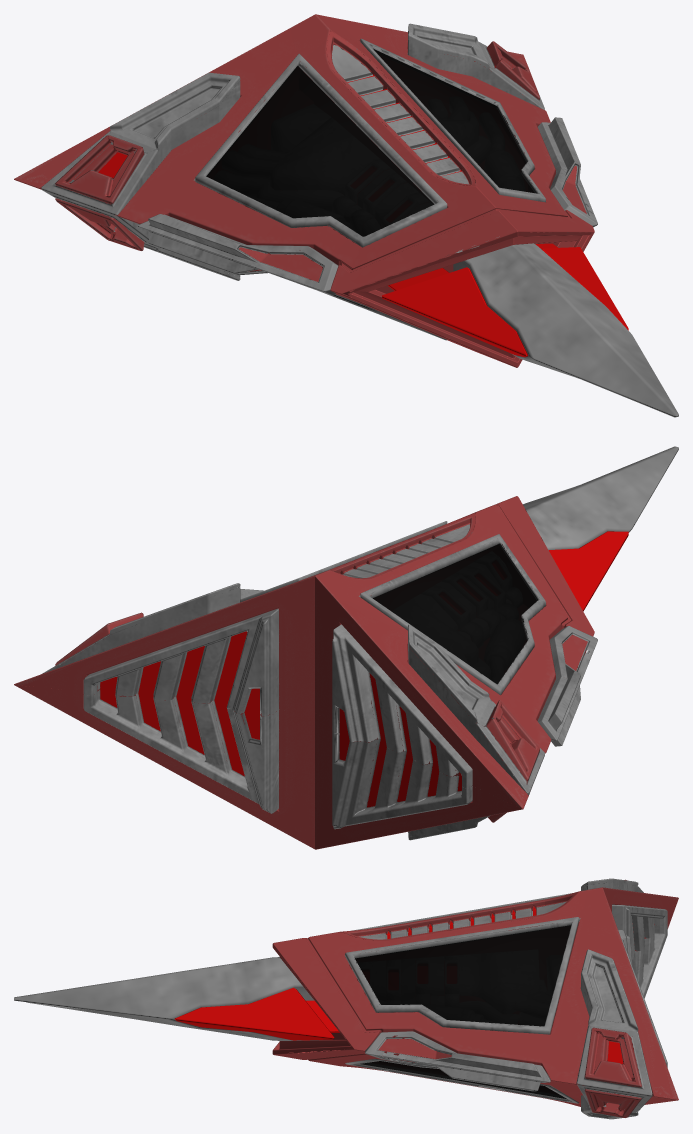
The model's file is Assasin_techno.obj.
3 renders of one model, top to bottom at view 1: azimuth 30°, elevation 25°; view 2: azimuth 150°, elevation 25°; view 3: azimuth 270°, elevation 25°, orthographic. The views are drawn at different scales.
Visible parts, largest first — view 1: Cone.029_Cone.045, Cone.024_Cone.037; view 2: Cone.029_Cone.045, Cone.024_Cone.037; view 3: Cone.029_Cone.045, Cone.024_Cone.037.
Part boxes in pixels (box(x1,y1,x2,y2)): Cone.029_Cone.045: box(14, 14, 628, 367); Cone.024_Cone.037: box(447, 236, 678, 417); Cone.029_Cone.045: box(14, 496, 628, 849); Cone.024_Cone.037: box(468, 446, 678, 549); Cone.029_Cone.045: box(174, 878, 678, 1119); Cone.024_Cone.037: box(14, 957, 318, 1040).
Bounding box in the file's own units: 1.72 × 0.8846 × 2.4.
